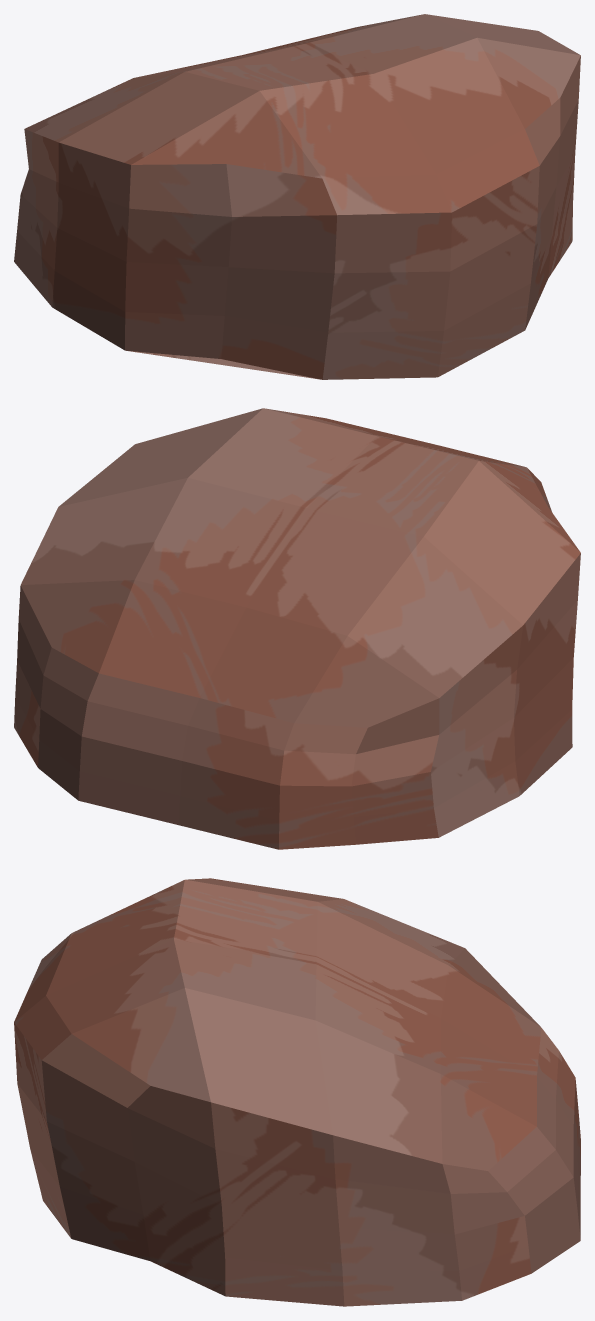
File: Rock5_Final.fbx
3 renders of one model, top to bottom at view 1: azimuth 30°, elevation 25°; view 2: azimuth 150°, elevation 25°; view 3: azimuth 270°, elevation 25°, orthographic. The views are drawn at different scales.
Parts seen in each view (by area): view 1: pCube1; view 2: pCube1; view 3: pCube1.
Part boxes in pixels (<box>): pCube1: <box>14,14,580,379</box>; pCube1: <box>14,408,580,849</box>; pCube1: <box>14,878,580,1306</box>.
Bounding box in the file's own units: 18.14 × 9.55 × 18.37.
